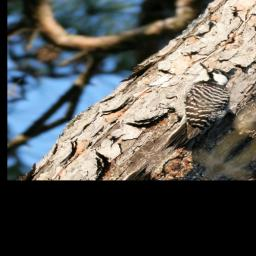Woodpecker: (124, 61, 256, 160)
